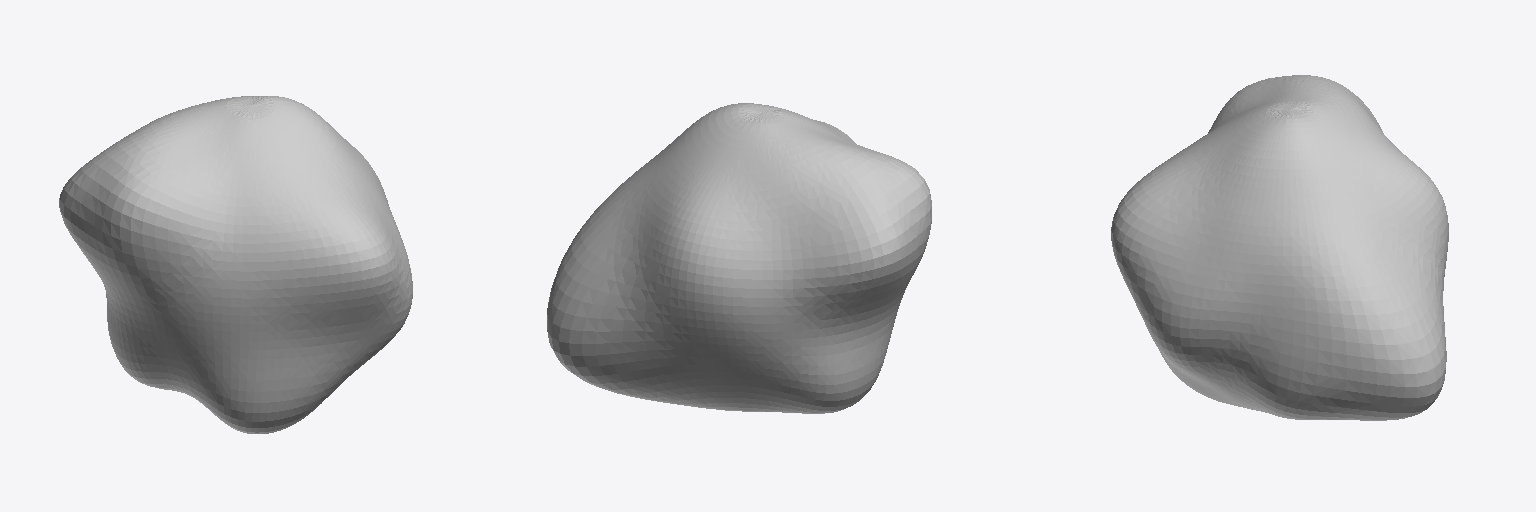
The model's file is asteroid1.obj.
The picture shows the model from 3 angles: view 1: azimuth 30°, elevation 25°; view 2: azimuth 150°, elevation 25°; view 3: azimuth 270°, elevation 25°; orthographic projection.
Parts seen in each view (by area): view 1: Mesh; view 2: Mesh; view 3: Mesh.
Part boxes in pixels (left/top/right/bottom): Mesh: left=59, top=96, right=412, bottom=433; Mesh: left=547, top=103, right=931, bottom=413; Mesh: left=1111, top=75, right=1448, bottom=420.
Size of the model in its own units: 13.01 by 11.37 by 11.74.